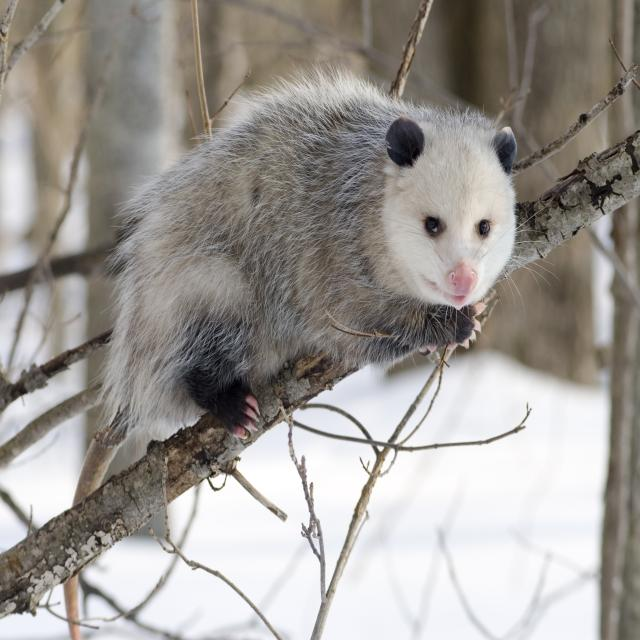Possum: (78, 70, 524, 534)
